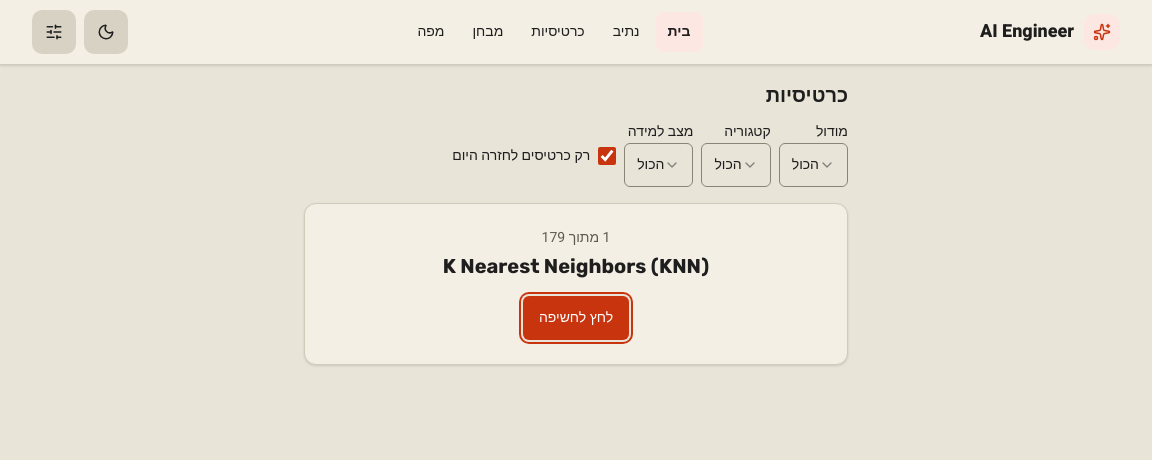
Test: Flashcards › shows an empty-queue message when no topics match the filters
What coordinates should you click on to do the following:
click the dropdown named "מצב למידה"
I would click on:
 (659, 165)
Its box is [624,143,694,187].
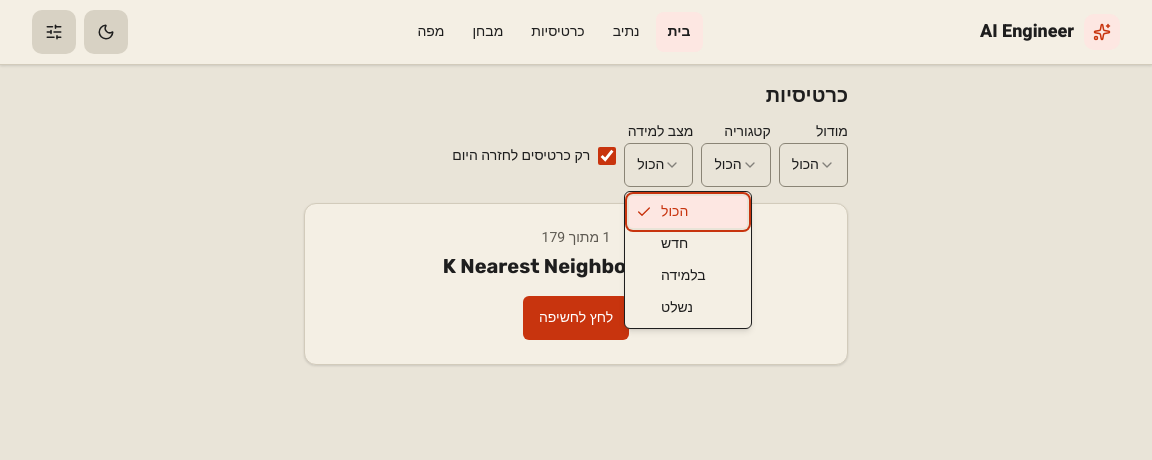
What coordinates should you click on to do the following:
click the option "חדש"
I would click on:
 (675, 244)
Its box is [661,233,688,254].
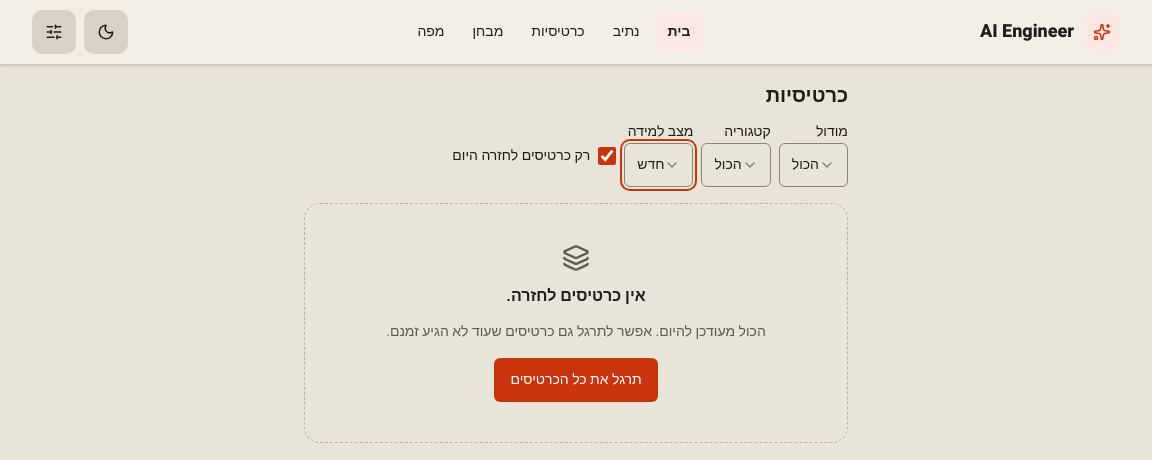
Check: the message shows "אין כרטיסים לחזרה", box [506,284,646,308]
